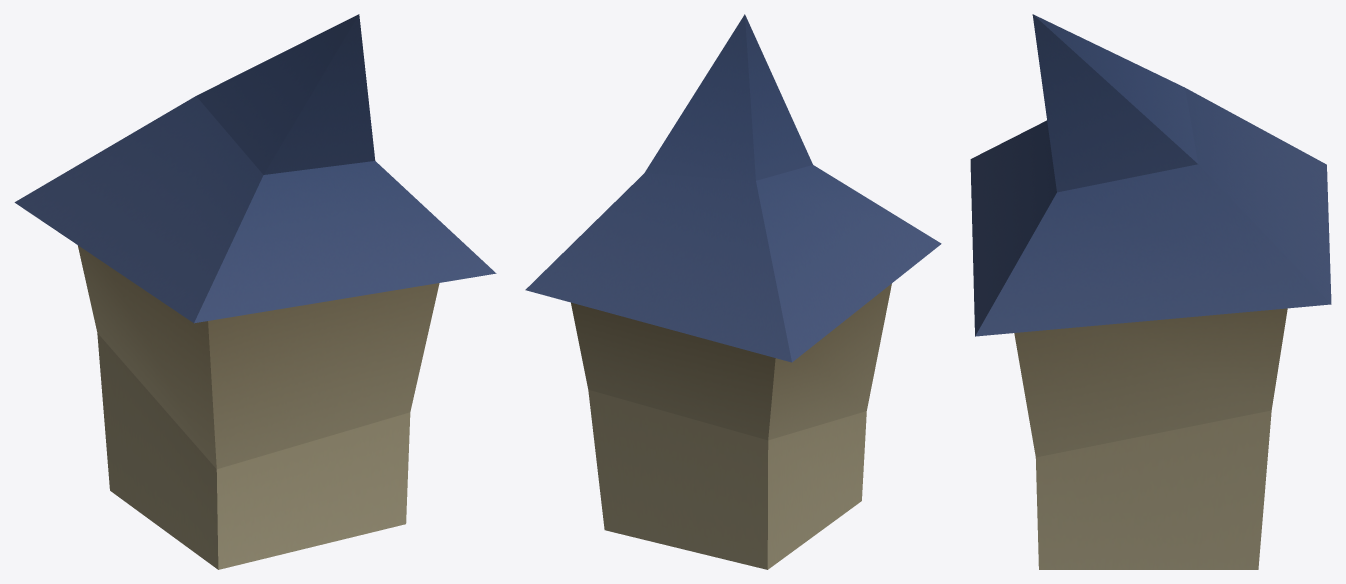
Rendered from workers_house0.glb.
3 views of the same model, side by side, from view 1: azimuth 30°, elevation 25°; view 2: azimuth 150°, elevation 25°; view 3: azimuth 270°, elevation 25° (orthographic). The views are drawn at different scales.
Visible parts, largest first — view 1: WorkersHouse; view 2: WorkersHouse; view 3: WorkersHouse.
Boxes of the visible parts, bbox=[...] form: WorkersHouse: bbox=[14, 14, 496, 569]; WorkersHouse: bbox=[525, 14, 941, 569]; WorkersHouse: bbox=[970, 14, 1331, 569].
Size of the model in its own units: 2.02 by 3.29 by 2.02.
1 material, 1 textured.
